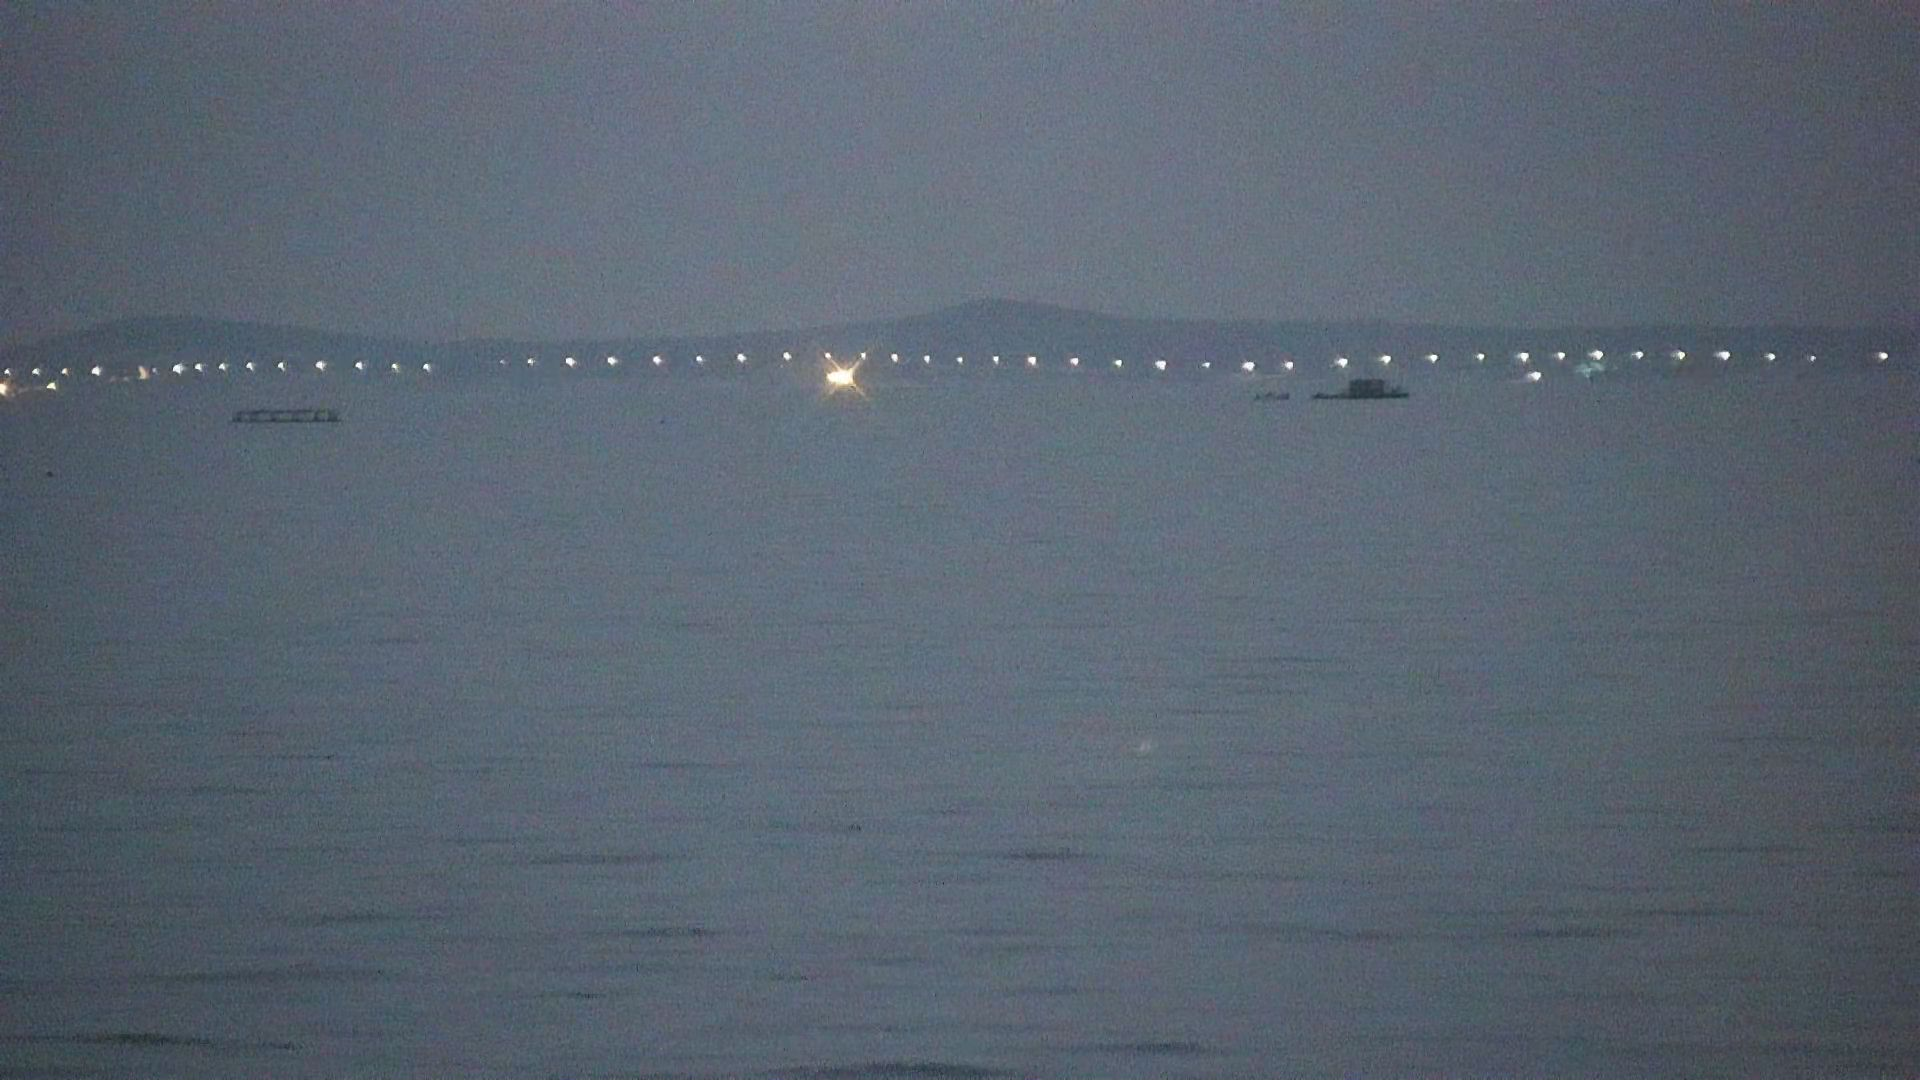platform: (1308, 365, 1418, 410), (222, 398, 352, 435)
